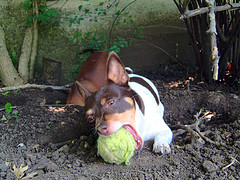tennis ball: (96, 128, 136, 167)
